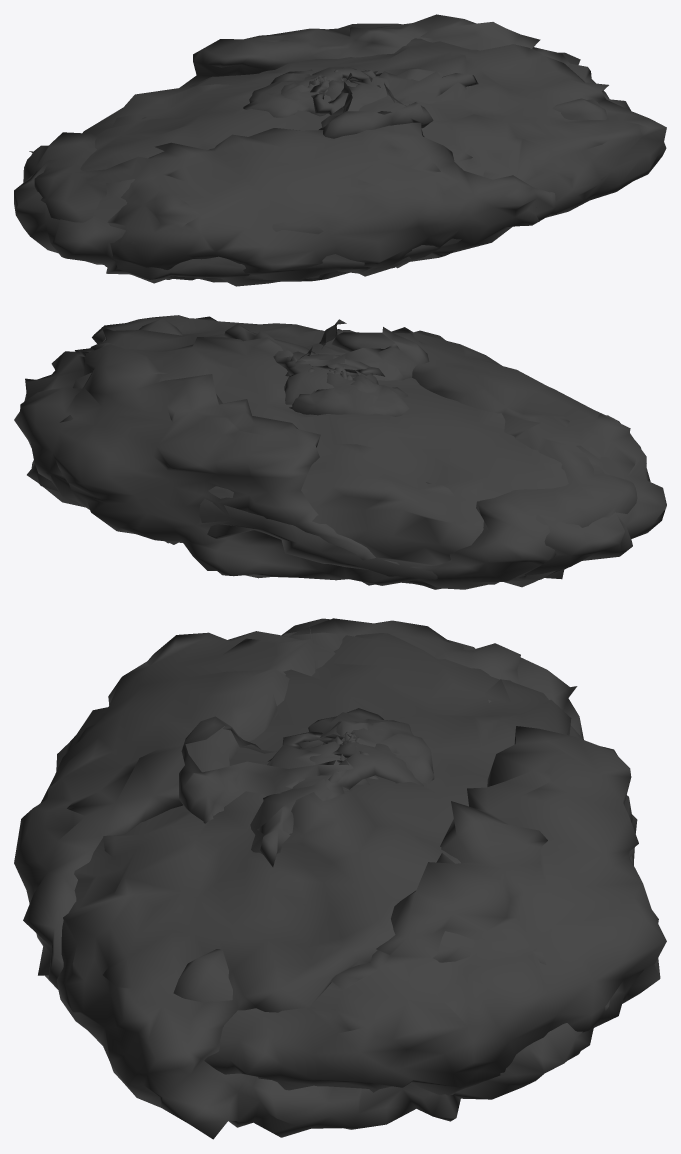
File: stones.glb
3 views of the same model, one above another, from view 1: azimuth 30°, elevation 25°; view 2: azimuth 150°, elevation 25°; view 3: azimuth 270°, elevation 25° (orthographic). The views are drawn at different scales.
Parts seen in each view (by area): view 1: reclining-0, reclining-1, strata-0, strata-1, strata-2, reclining-2; view 2: reclining-0, reclining-1, strata-2, strata-0, strata-1, reclining-2; view 3: reclining-0, reclining-1, strata-0, strata-1, strata-2, reclining-2.
Part boxes in pixels (x1,y1,x2,y2): reclining-0: (23,14,630,282); reclining-1: (14,38,666,286); strata-0: (319,71,433,138); strata-1: (304,67,389,114); strata-2: (243,69,331,117); reclining-2: (142,71,478,279); reclining-0: (14,318,650,589); reclining-1: (27,315,666,585); strata-2: (289,370,409,416); strata-0: (285,319,429,380); strata-1: (273,351,384,404); reclining-2: (223,323,553,589); reclining-0: (14,618,666,1095); reclining-1: (56,632,637,1139); strata-0: (179,716,369,823); strata-1: (267,731,423,800); strata-2: (298,708,434,783); reclining-2: (250,699,491,866).
Size of the model in its own units: 3.9 by 1 by 2.45.
1 material, 1 textured.
